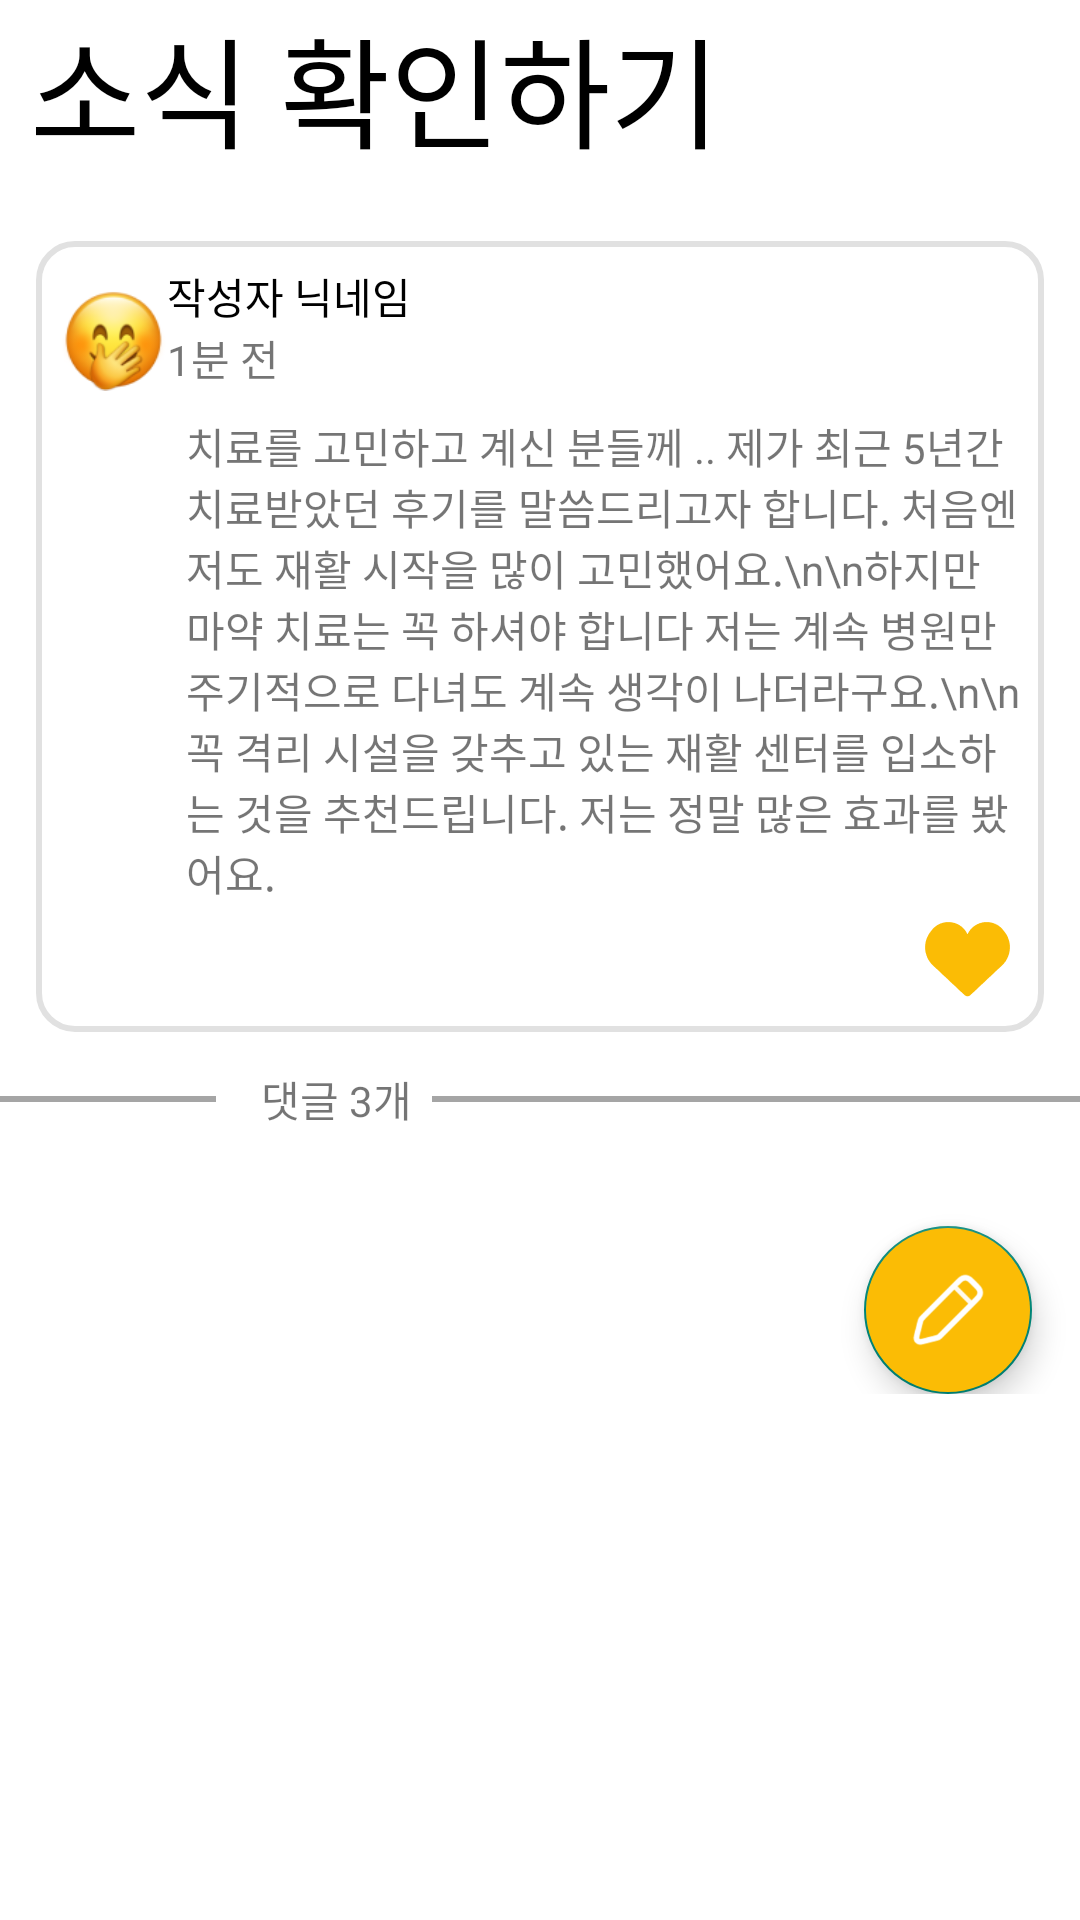

Icons on this 1080×1920 Android screen, each with its box as (x1, y1, x2, y2):
write: (864, 1226, 1032, 1394)
